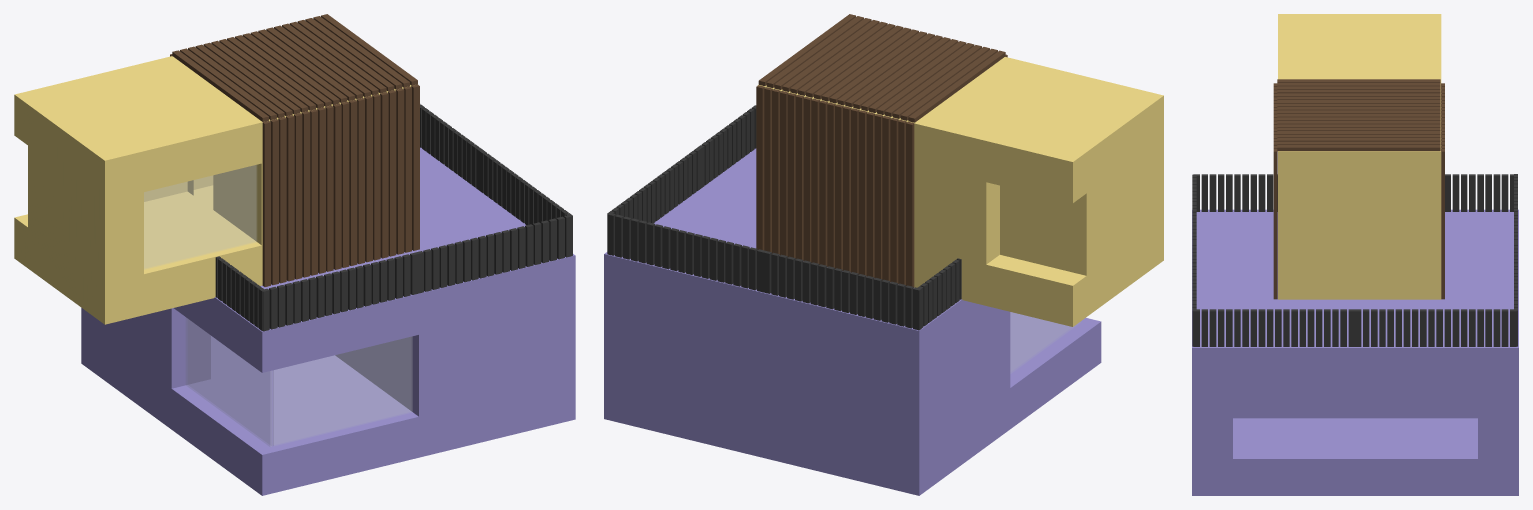
File: home_center.glb
3 renders of one model, left to right at view 1: azimuth 30°, elevation 25°; view 2: azimuth 150°, elevation 25°; view 3: azimuth 270°, elevation 25°, orthographic. The views are drawn at different scales.
Parts seen in each view (by area): view 1: Module_Cube_2x2x1, Module_L_Shape.003, Module_Wood_Slats.001, Module_Wood_Slats.002, Module_L_Shape_Window.007, Module_L_Shape_Window.003, Module_Wood_railings.002, Module_Wood_railings.003, Module_L_Shape_Window.006, Module_Wood_railings.004, Module_Wood_railings.005, Module_Wood_railings.009; view 2: Module_Cube_2x2x1, Module_L_Shape.003, Module_Wood_Slats.003, Module_Wood_Slats.002, Module_Wood_railings.007, Module_Wood_railings.006, Module_Wood_railings.005, Module_Wood_railings.004, Module_L_Shape_Window.006, Module_Wood_railings.008; view 3: Module_Cube_2x2x1, Module_L_Shape.003, Module_Wood_Slats.002, Module_Wood_railings.005, Module_Wood_railings.004, Module_Wood_railings.009, Module_Wood_railings.008, Module_Wood_Slats.001, Module_Wood_Slats.003, Module_Wood_railings.003.
Part boxes in pixels (x1,y1,x2,y2): Module_Cube_2x2x1: [81, 147, 575, 495]; Module_L_Shape.003: [14, 56, 411, 324]; Module_Wood_Slats.001: [262, 84, 419, 286]; Module_Wood_Slats.002: [172, 14, 417, 121]; Module_L_Shape_Window.007: [273, 337, 412, 445]; Module_L_Shape_Window.003: [144, 165, 256, 269]; Module_Wood_railings.002: [261, 252, 418, 331]; Module_Wood_railings.003: [416, 214, 572, 293]; Module_L_Shape_Window.006: [186, 318, 271, 446]; Module_Wood_railings.004: [479, 150, 572, 255]; Module_Wood_railings.005: [420, 104, 483, 190]; Module_Wood_railings.009: [215, 256, 264, 331]; Module_Cube_2x2x1: [604, 148, 1101, 495]; Module_L_Shape.003: [757, 57, 1163, 326]; Module_Wood_Slats.003: [756, 85, 914, 287]; Module_Wood_Slats.002: [758, 14, 1005, 122]; Module_Wood_railings.007: [763, 251, 921, 330]; Module_Wood_railings.006: [607, 212, 765, 292]; Module_Wood_railings.005: [607, 148, 700, 223]; Module_Wood_railings.004: [697, 105, 756, 188]; Module_L_Shape_Window.006: [1010, 312, 1080, 372]; Module_Wood_railings.008: [916, 258, 961, 327]; Module_Cube_2x2x1: [1192, 209, 1518, 495]; Module_L_Shape.003: [1278, 14, 1441, 299]; Module_Wood_Slats.002: [1277, 79, 1440, 151]; Module_Wood_railings.005: [1354, 309, 1516, 346]; Module_Wood_railings.004: [1193, 309, 1354, 346]; Module_Wood_railings.009: [1193, 174, 1277, 211]; Module_Wood_railings.008: [1445, 174, 1516, 211]; Module_Wood_Slats.001: [1273, 83, 1277, 299]; Module_Wood_Slats.003: [1441, 83, 1444, 299]; Module_Wood_railings.003: [1192, 242, 1196, 346].
Size of the model in its own units: 5.4 by 4.05 by 4.
